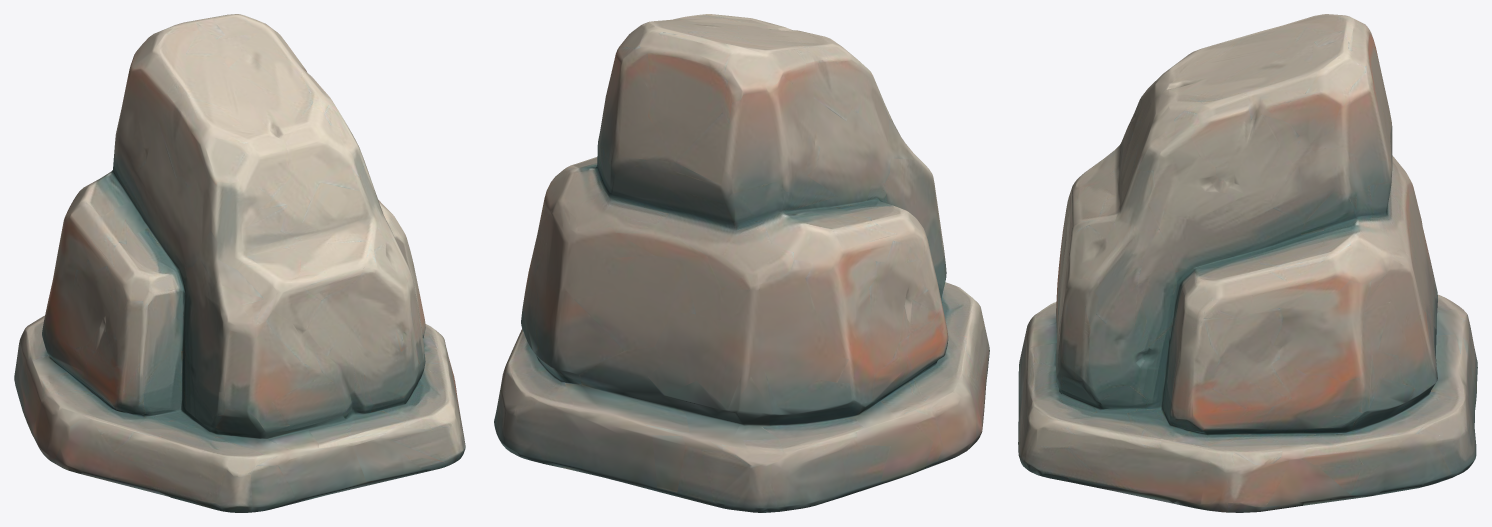
Rendered from rock-512.glb.
3 views of the same model, side by side, from view 1: azimuth 30°, elevation 25°; view 2: azimuth 150°, elevation 25°; view 3: azimuth 270°, elevation 25° (orthographic). The views are drawn at different scales.
Bounding box in the file's own units: 1.9 × 1.66 × 1.81.
1 material, 1 textured.
